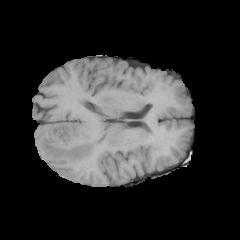glioma: (43, 122, 102, 165)
